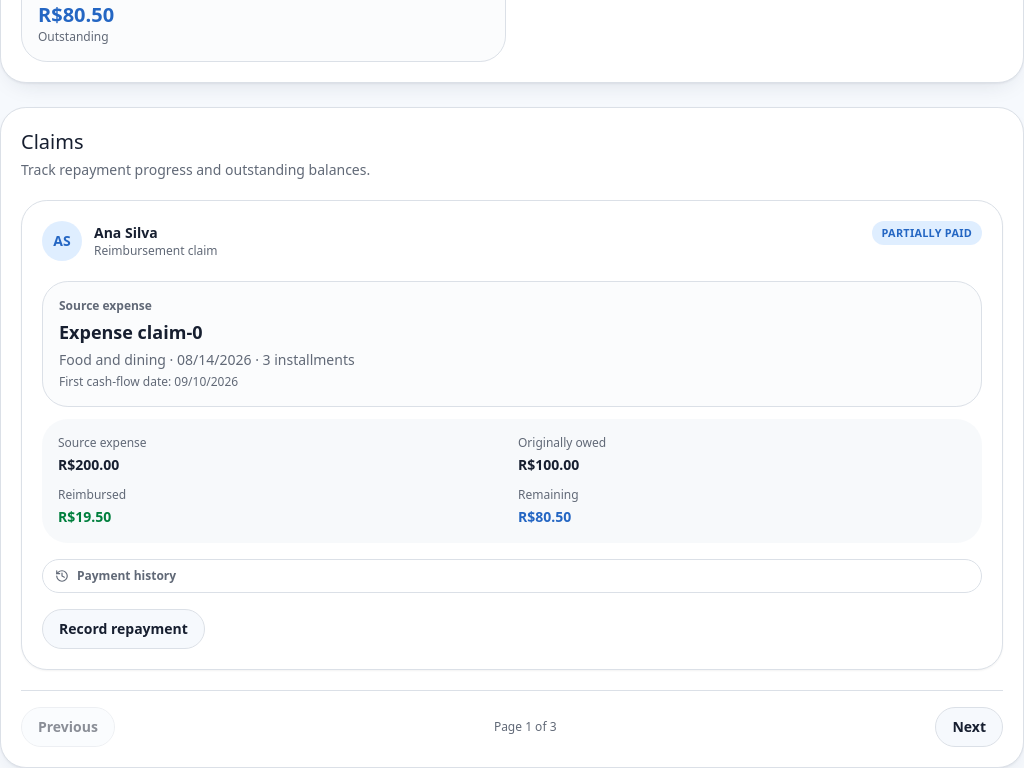
it: OwedPage localization › navigates every claims page with bounded zero-based API requests
(page scrolled)
Check: the button "Previous" is disabled, box [21, 707, 115, 747]
Check: the text "Page 1 of 3" is shown, box [494, 719, 556, 735]
Click the button "Next". click: (969, 727)
box: [936, 707, 1003, 747]
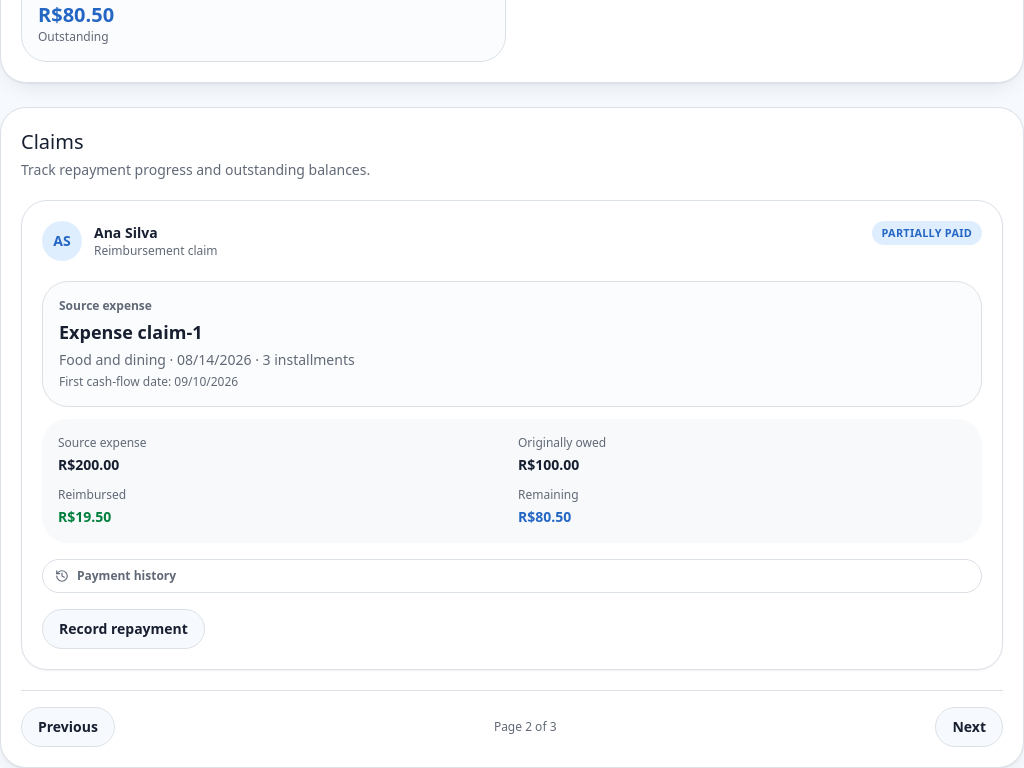
Check: the text "Page 2 of 3" is shown, box [494, 719, 556, 735]
Check: the button "Previous" is enabled
Click the button "Previous". click: (68, 727)
box: [21, 707, 115, 747]
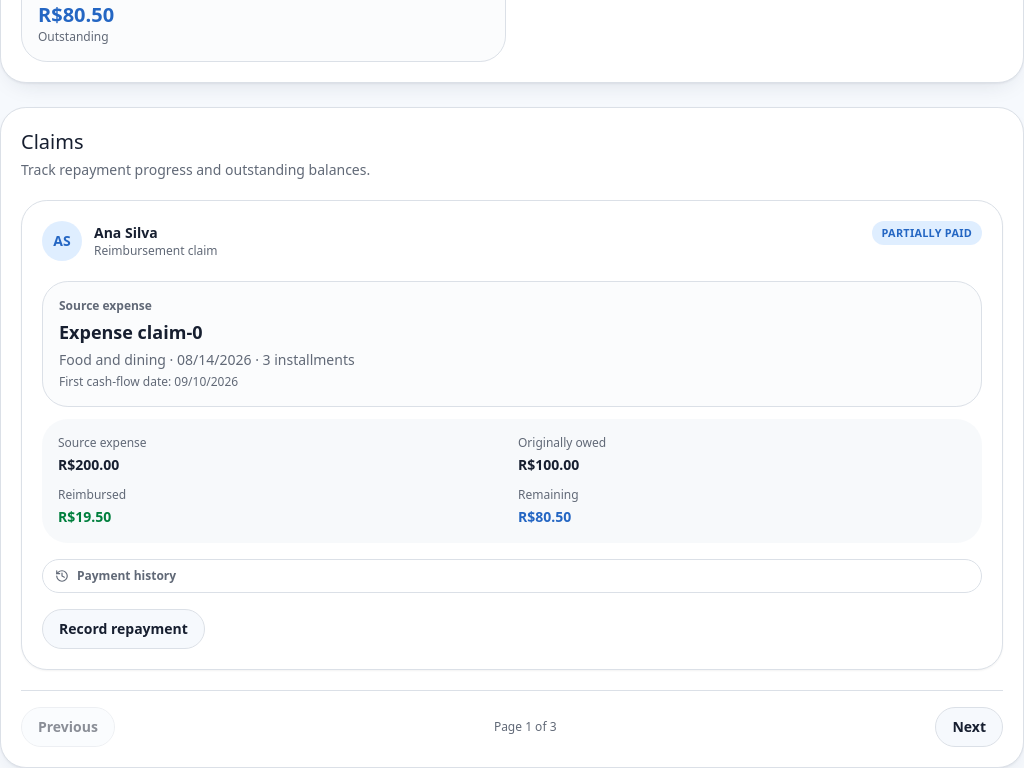
Check: the text "Page 1 of 3" is shown, box [494, 719, 556, 735]
Click the button "Next". click: (969, 727)
box: [936, 707, 1003, 747]
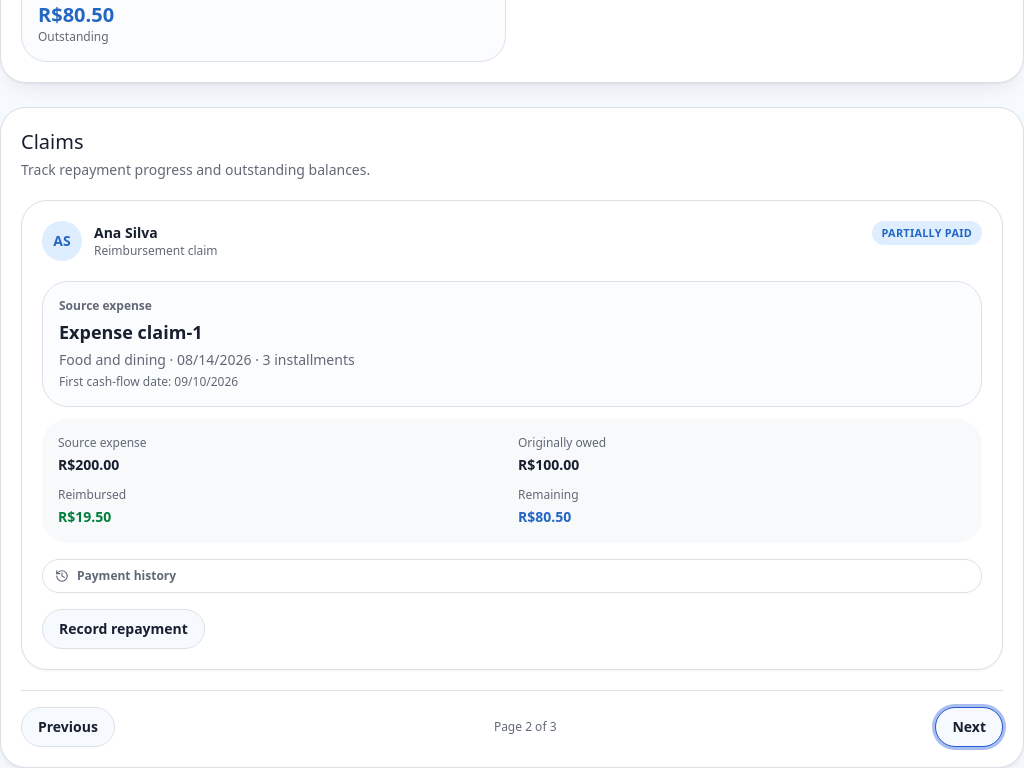
Check: the text "Page 2 of 3" is shown, box [494, 719, 556, 735]
Click the button "Next". click: (969, 727)
box: [936, 707, 1003, 747]
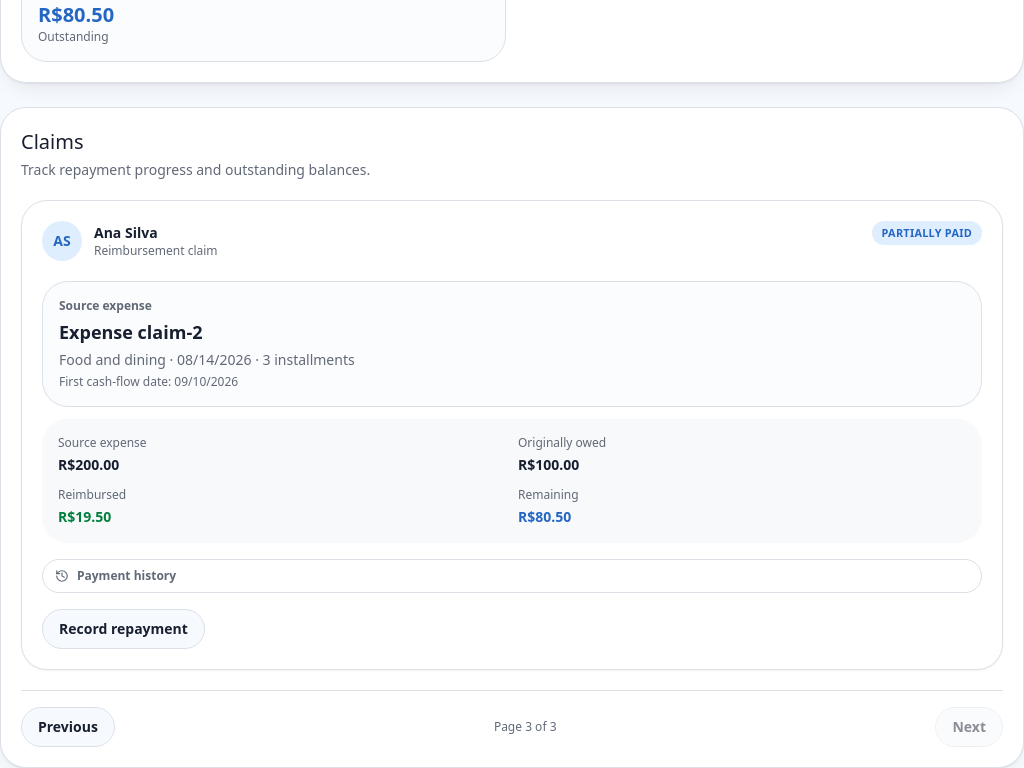
Check: the text "Page 3 of 3" is shown, box [494, 719, 556, 735]
Check: the button "Next" is disabled, box [936, 707, 1003, 747]
